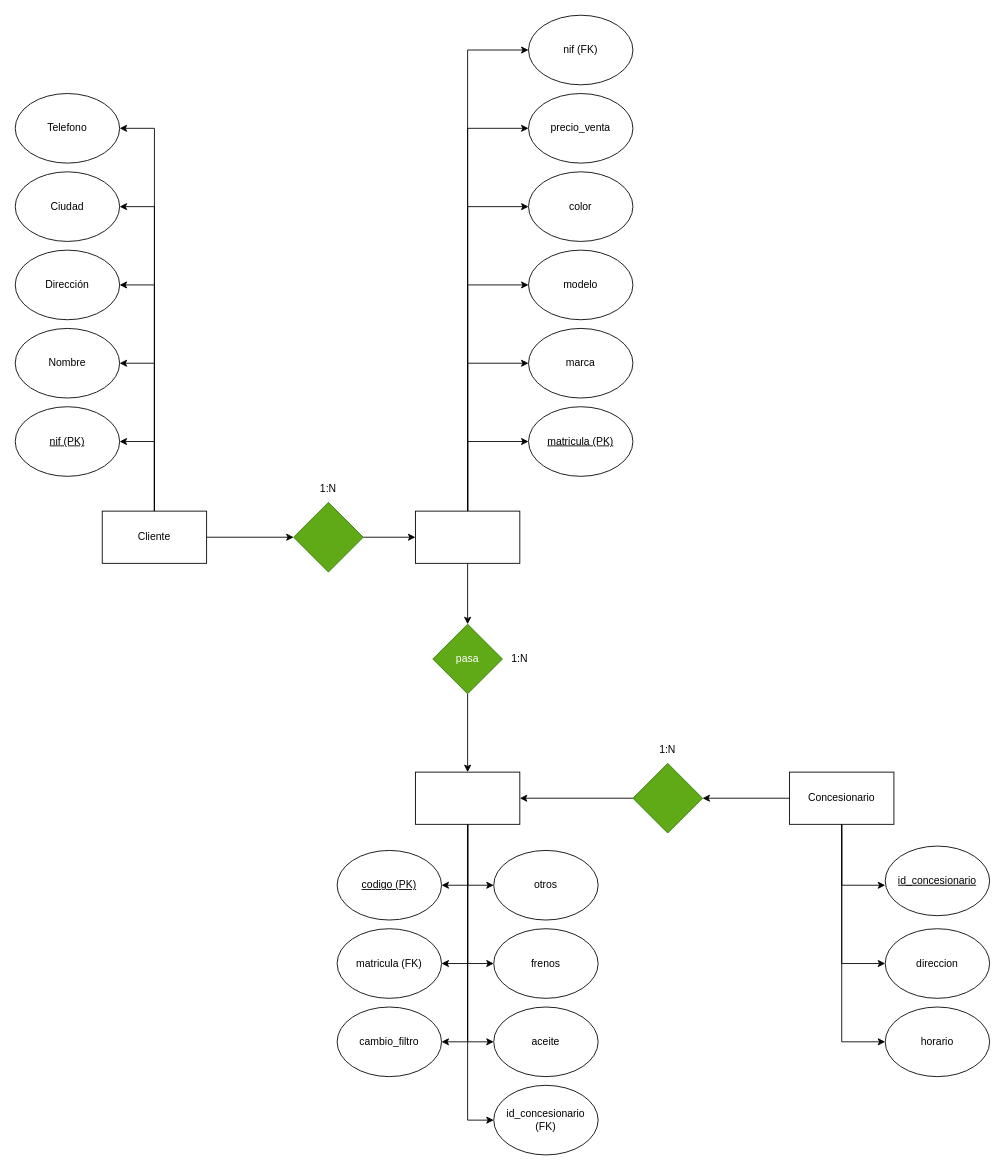
Image size: 1005x1170. Some labels were removed from this diagram. The box of each missing label's shape, as (x1, y1, x2, y2) in pixels:
Coche: (415, 510, 520, 563)
compra: (293, 502, 363, 572)
realiza: (632, 763, 703, 833)
Revisión: (415, 771, 520, 824)
